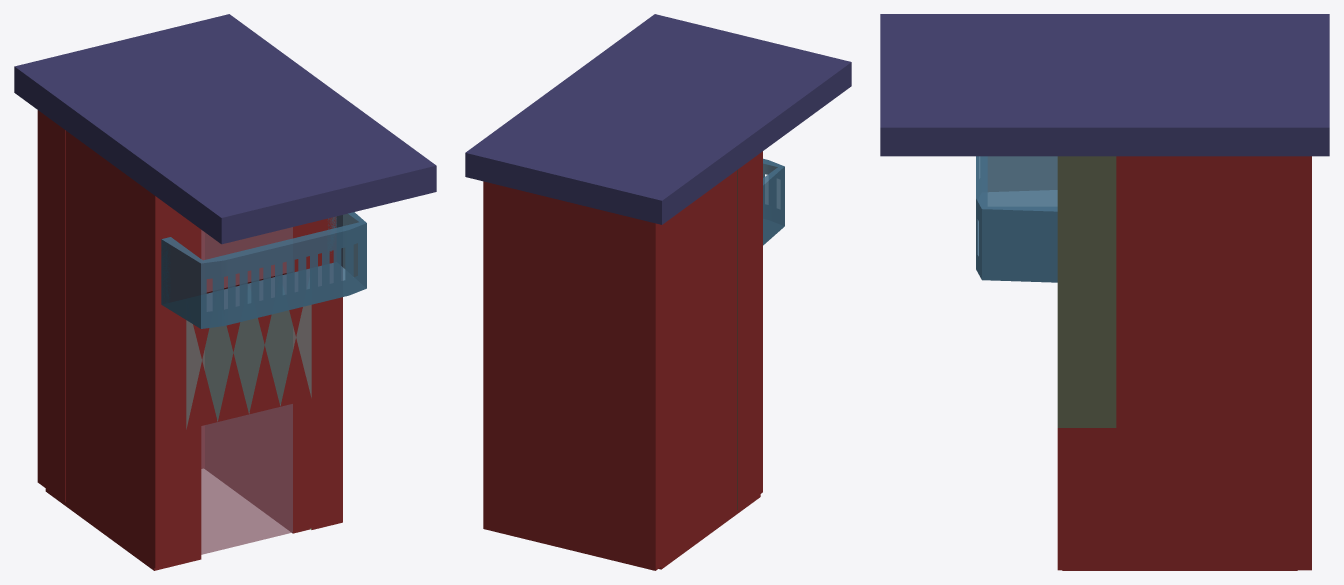
Rendered from bangunan 2.fbx.
3 views of the same model, side by side, from view 1: azimuth 30°, elevation 25°; view 2: azimuth 150°, elevation 25°; view 3: azimuth 270°, elevation 25° (orthographic). The views are drawn at different scales.
Parts seen in each view (by area): view 1: pCube2, polySurface1, pasted__pasted__pCube1, pasted__pasted__pasted__pCube1, polySurface2, pasted__pCube1, pasted__polySurface2; view 2: pasted__pCube1, pCube2, pasted__pasted__pCube1, polySurface1; view 3: pCube2, pasted__pasted__pasted__pCube1, polySurface1, pasted__pCube1.
Part boxes in pixels (x1=…): pCube2: x1=14, y1=14, x2=436, y2=244; polySurface1: x1=128, y1=176, x2=366, y2=568; pasted__pasted__pCube1: x1=45, y1=130, x2=201, y2=570; pasted__pasted__pasted__pCube1: x1=204, y1=219, x2=327, y2=533; polySurface2: x1=201, y1=404, x2=292, y2=554; pasted__pCube1: x1=37, y1=110, x2=204, y2=502; pasted__polySurface2: x1=201, y1=227, x2=292, y2=292; pasted__pCube1: x1=483, y1=181, x2=680, y2=570; pCube2: x1=465, y1=14, x2=851, y2=224; pasted__pasted__pCube1: x1=658, y1=170, x2=760, y2=569; polySurface1: x1=737, y1=151, x2=784, y2=510; pCube2: x1=880, y1=14, x2=1329, y2=156; pasted__pasted__pasted__pCube1: x1=1062, y1=156, x2=1297, y2=570; polySurface1: x1=976, y1=156, x2=1116, y2=570; pasted__pCube1: x1=1253, y1=156, x2=1311, y2=570.
Bounding box in the file's own units: 4.58 × 8.5 × 7.64.
